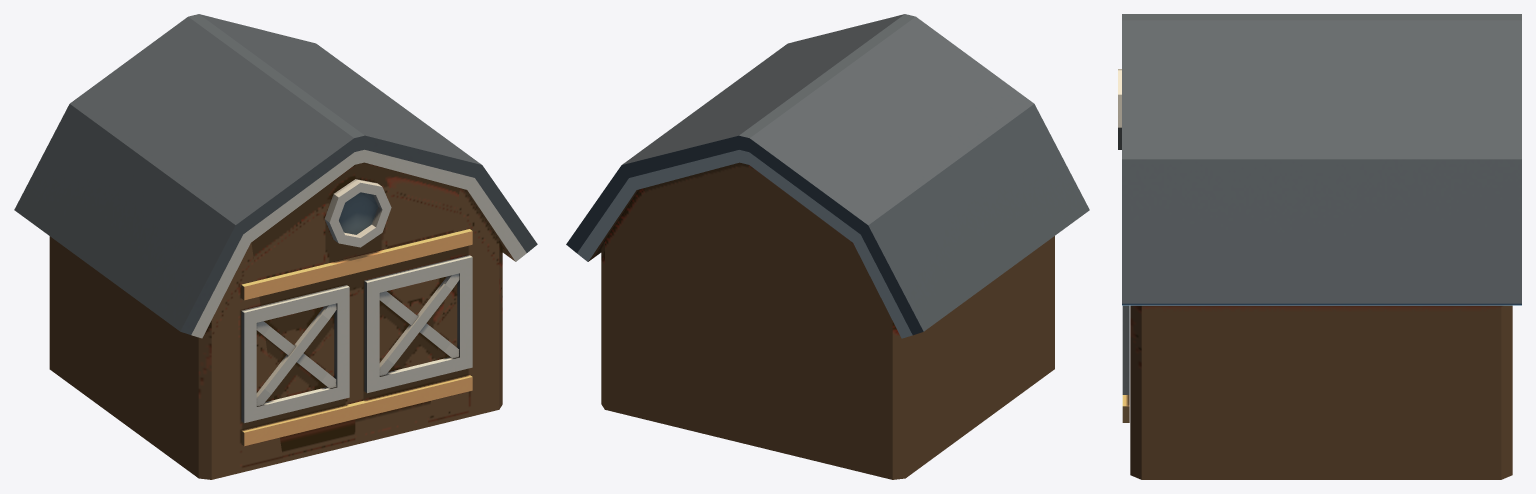
The model's file is PUSHILIN_barn.obj.
3 renders of one model, left to right at view 1: azimuth 30°, elevation 25°; view 2: azimuth 150°, elevation 25°; view 3: azimuth 270°, elevation 25°, orthographic. The views are drawn at different scales.
Parts seen in each view (by area): view 1: barn; view 2: barn; view 3: barn.
Part boxes in pixels (left/top/right/bottom): barn: left=14, top=14, right=537, bottom=479; barn: left=566, top=14, right=1089, bottom=479; barn: left=1118, top=14, right=1521, bottom=479.
Size of the model in its own units: 1.68 by 1.4 by 1.37.
1 material, 1 textured.
